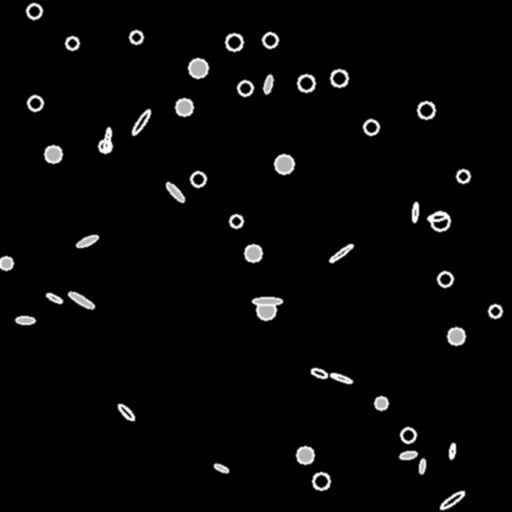pseudomonas: (438, 489, 466, 511), (130, 108, 152, 136), (328, 242, 354, 264), (67, 290, 95, 310), (164, 181, 186, 203), (75, 233, 99, 249), (117, 402, 135, 422), (329, 372, 353, 384), (310, 367, 328, 379), (263, 74, 273, 94), (253, 298, 281, 305), (213, 462, 229, 474), (46, 292, 62, 304), (103, 128, 111, 152), (399, 450, 417, 460), (427, 213, 447, 221), (15, 316, 35, 324), (448, 443, 456, 459), (418, 458, 426, 474), (412, 202, 418, 222)
synechocystis: (431, 212, 449, 230), (189, 59, 207, 77), (275, 155, 293, 173), (257, 301, 275, 319), (448, 328, 464, 344), (298, 75, 314, 91), (418, 102, 434, 118), (176, 99, 192, 115), (313, 473, 329, 489), (297, 447, 313, 463), (331, 70, 347, 86), (245, 245, 261, 261), (45, 146, 61, 162), (226, 34, 242, 50), (27, 4, 41, 18), (364, 120, 378, 134), (28, 96, 42, 110), (238, 81, 252, 95), (263, 33, 277, 47), (438, 272, 452, 286), (401, 428, 415, 442), (191, 172, 205, 186), (457, 170, 469, 182), (99, 140, 111, 152), (66, 37, 78, 49), (375, 397, 387, 409), (489, 305, 501, 317), (130, 31, 142, 43), (230, 215, 242, 227), (0, 257, 12, 269)
